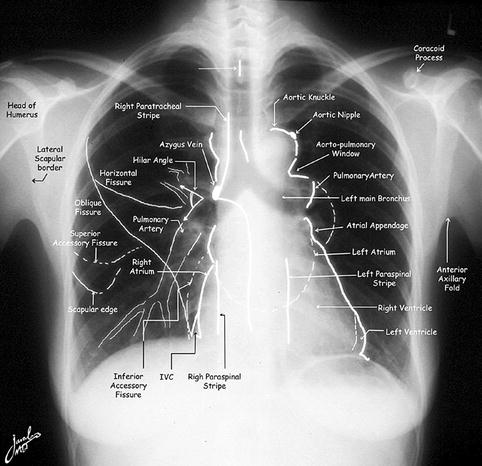telestration: (49, 229, 121, 250), (112, 101, 183, 119), (313, 140, 376, 160), (32, 143, 67, 173), (354, 269, 410, 287), (109, 371, 146, 398), (435, 263, 467, 293), (187, 372, 243, 388), (339, 193, 412, 205), (3, 101, 43, 122), (330, 168, 393, 181), (96, 169, 137, 188), (375, 302, 434, 315), (383, 325, 442, 338), (410, 42, 447, 62), (346, 220, 409, 230), (131, 215, 166, 233), (72, 198, 101, 216), (128, 258, 156, 276), (67, 304, 116, 314), (309, 111, 363, 120), (349, 247, 397, 257), (281, 92, 333, 101), (157, 139, 204, 148), (130, 155, 172, 164), (158, 372, 175, 381)
